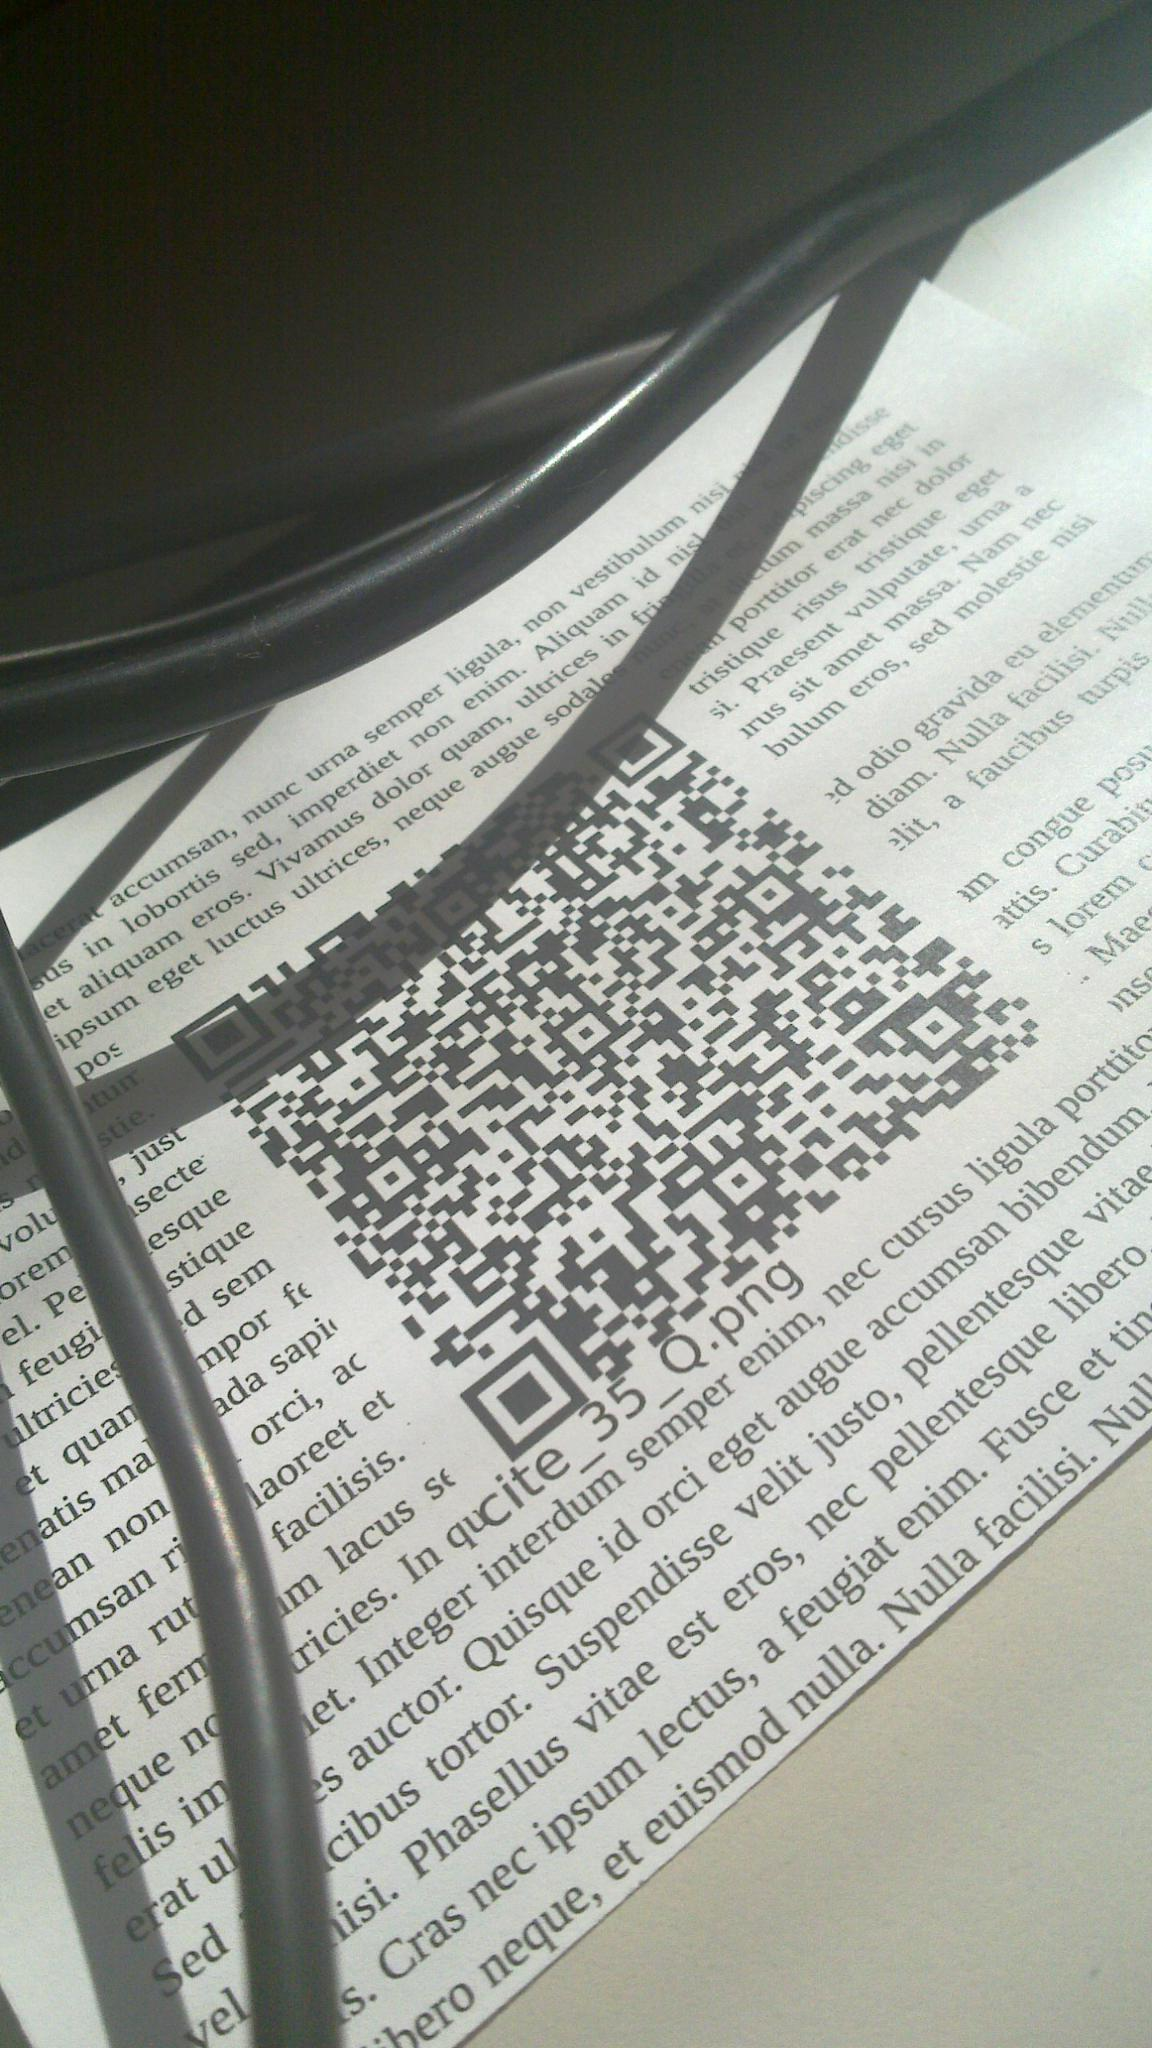Finder pattern: (457, 1331, 602, 1468), (159, 986, 288, 1077), (585, 710, 688, 793)
